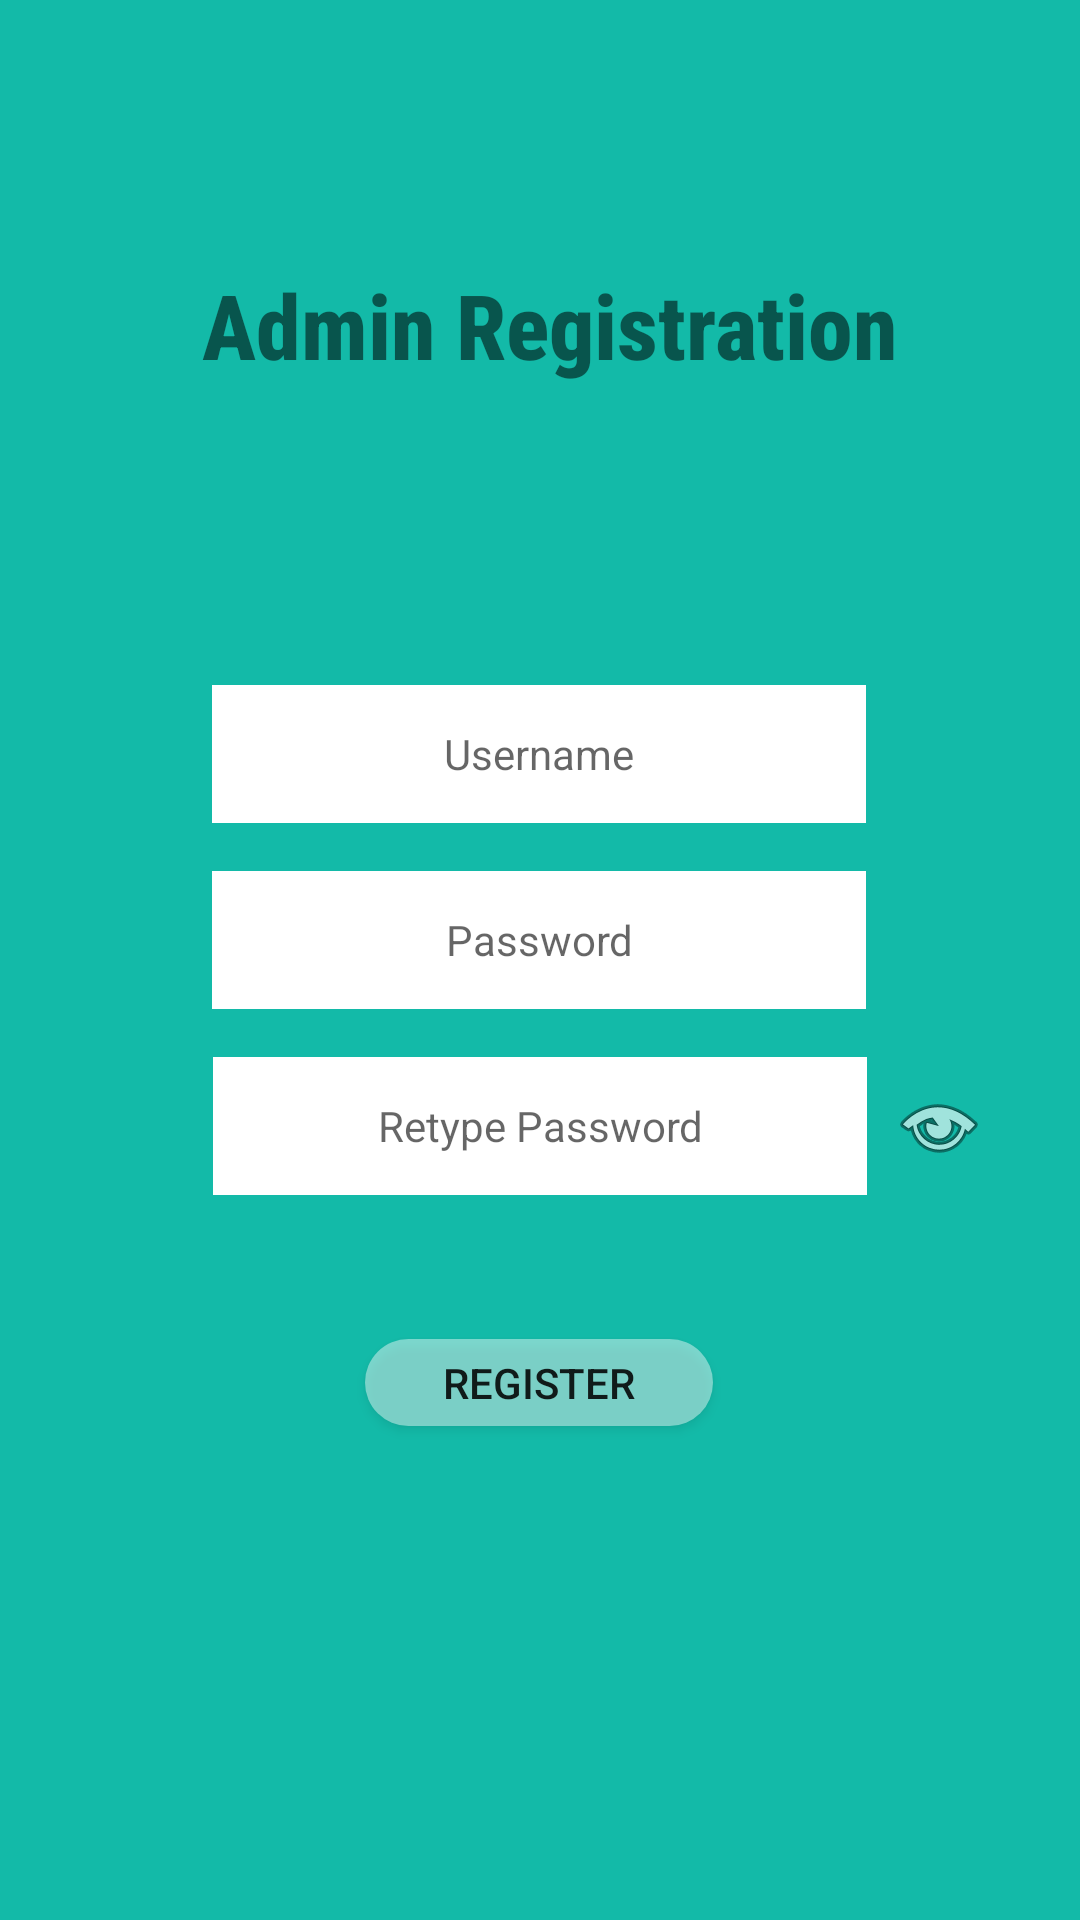

Named icons in this screenshot (1080x1920) and their bounding boxes, bbox=(x1, y1, x2, y2):
view: bbox=(900, 1104, 978, 1153)
